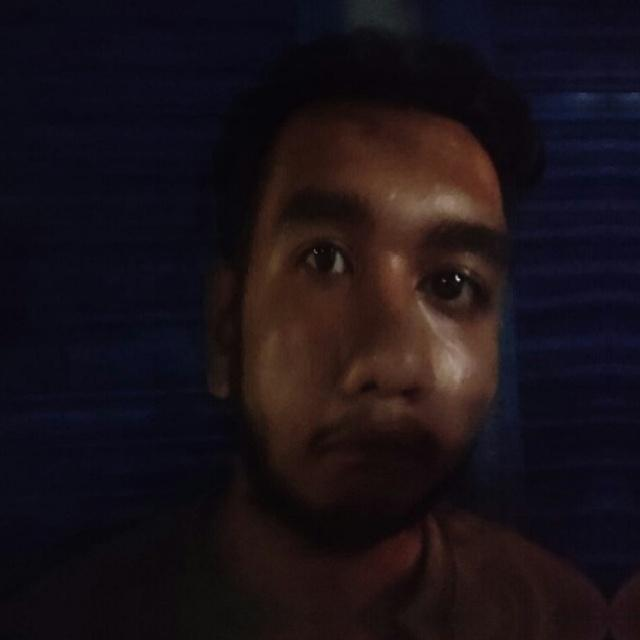sad: (238, 105, 510, 560)
